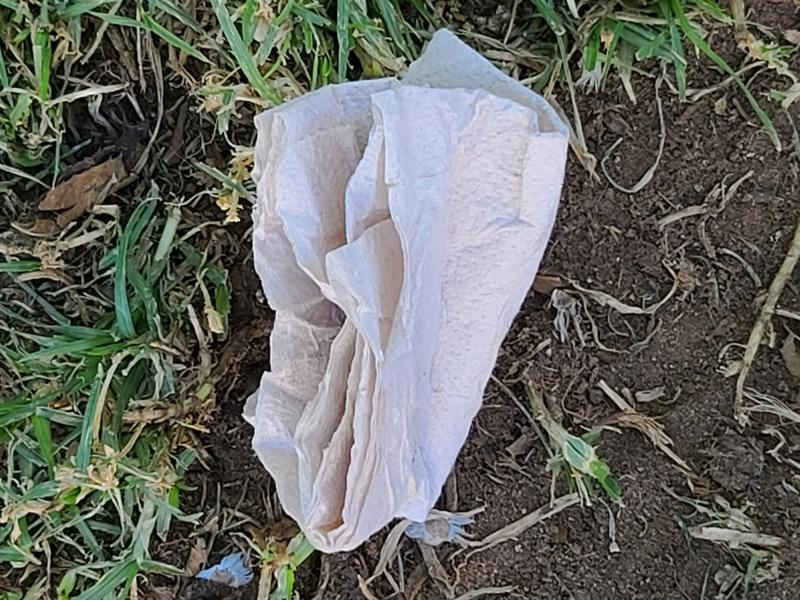papel: (245, 29, 573, 557)
